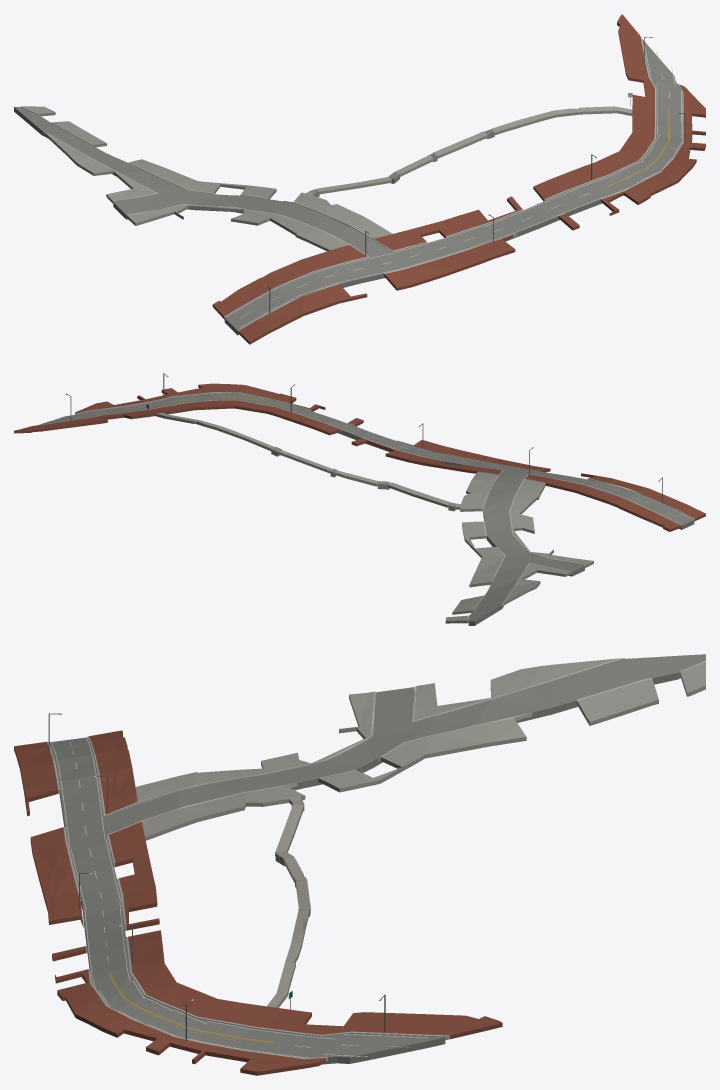
The model's file is 18-218865-118961.6604fbdc.glb.
The picture shows the model from 3 angles, top to bottom: view 1: azimuth 30°, elevation 25°; view 2: azimuth 150°, elevation 25°; view 3: azimuth 270°, elevation 25°; orthographic projection. The views are drawn at different scales.
Bounding box in the file's own units: 148 × 22.82 × 111.
